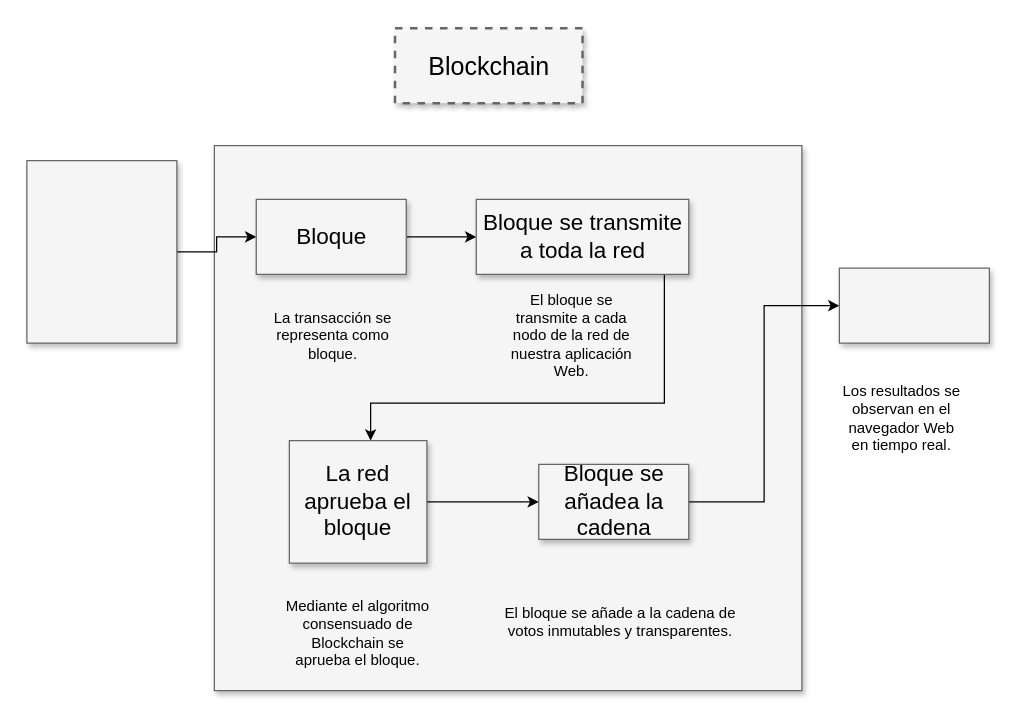
Image size: 1019x721. Some labels were removed from this diagram. Each missing label, with the centre of its shape:
"Alumno quiere votar por alumno consejero" belongs at [102,253].
"Visualización de resultados" belongs at [915,307].
